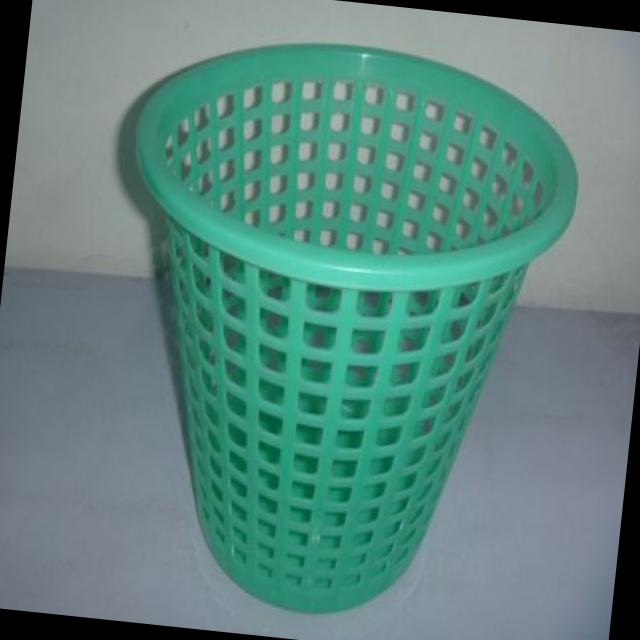dustbin: (77, 12, 596, 638)
